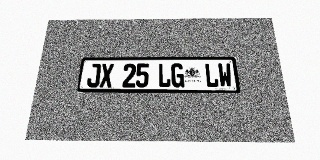2: (122, 63, 136, 87)
5: (136, 63, 149, 87)
G: (171, 63, 184, 87)
J: (86, 64, 101, 87)
L: (204, 63, 219, 87), (158, 63, 171, 87)
W: (217, 63, 233, 87)
X: (99, 64, 114, 87)
